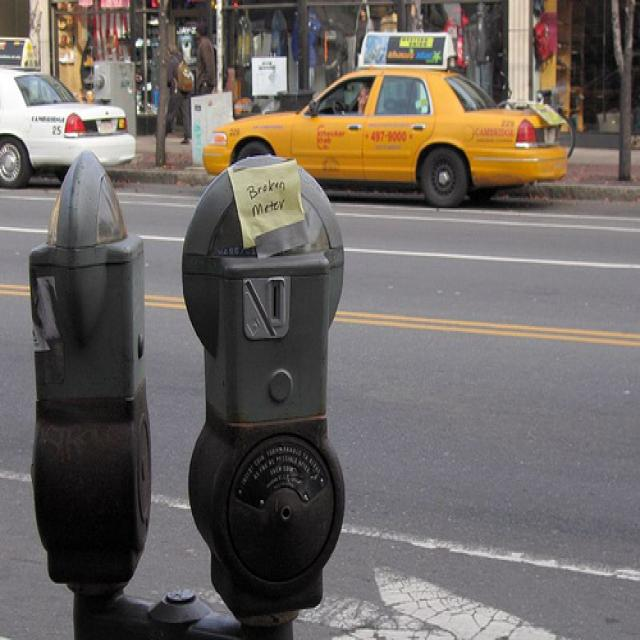Vehicle: (199, 67, 569, 206), (0, 63, 137, 188)
